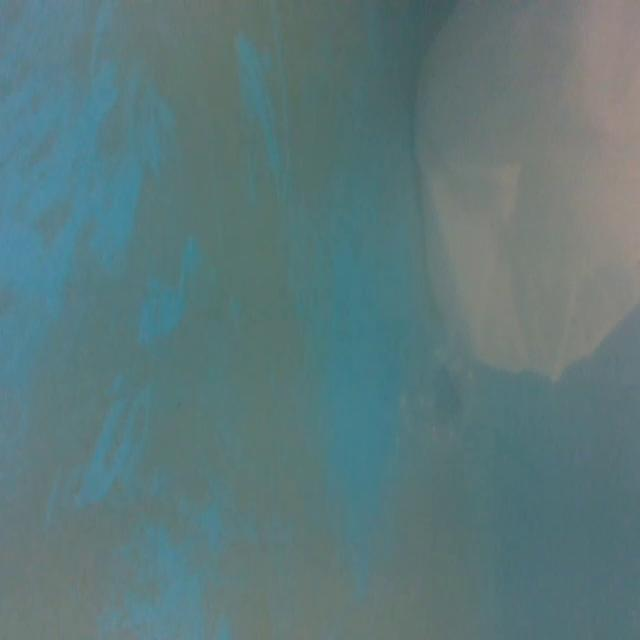plastic bags: (407, 0, 640, 384)
